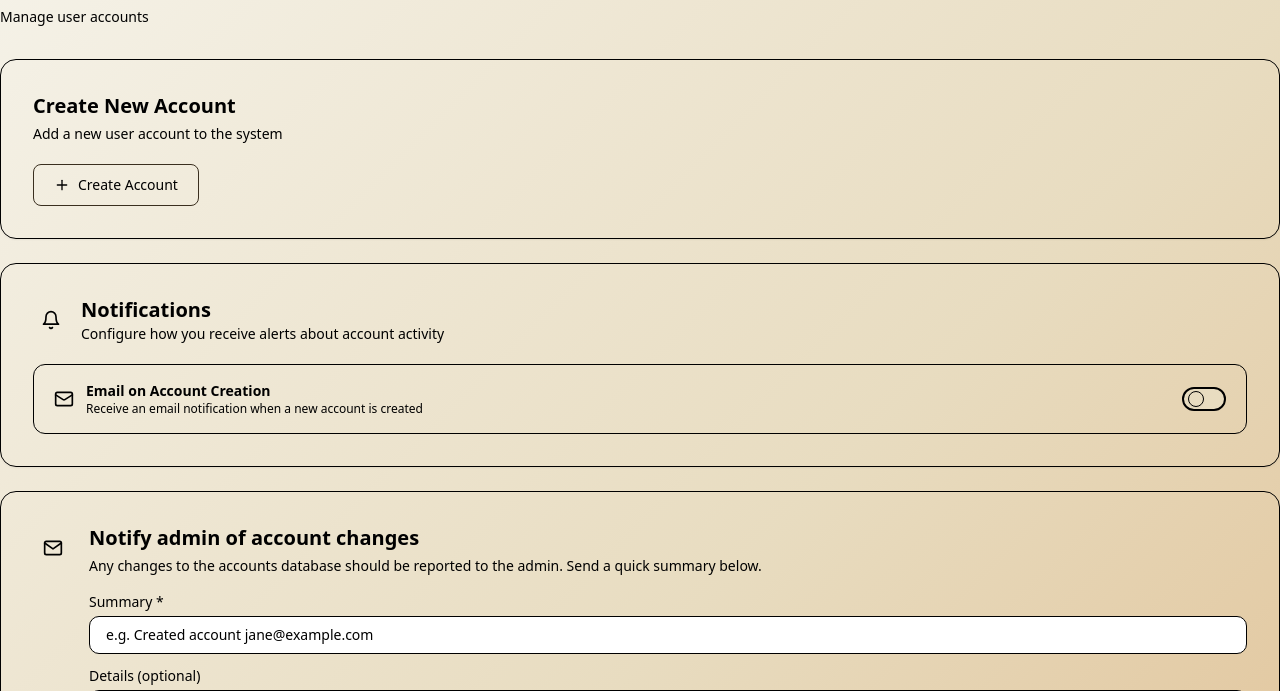
it: Account creation — AccountManagementPage modal › adds the new account to the displayed list after successful creation
Click the button "Create Account" at x=116, y=185, box [33,164,199,206]
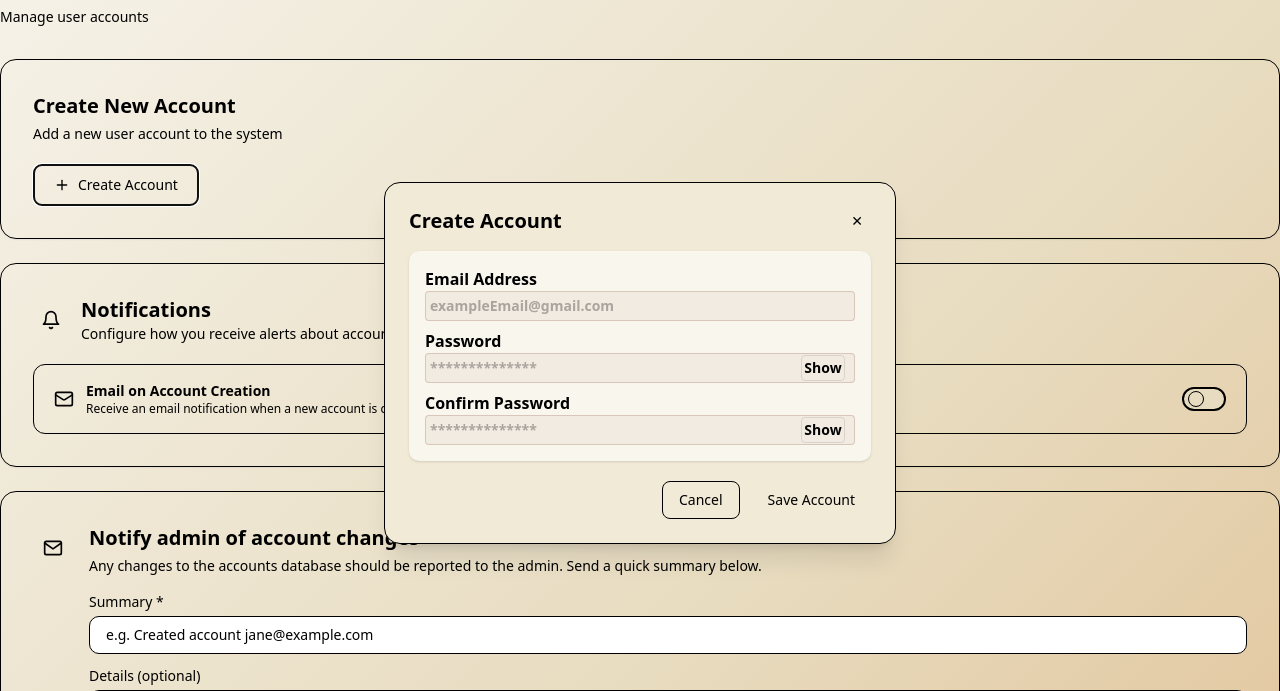
Type "freshuser@example.com" into the field labelled "Email Address" at x=640, y=306, box [425,291,855,321]
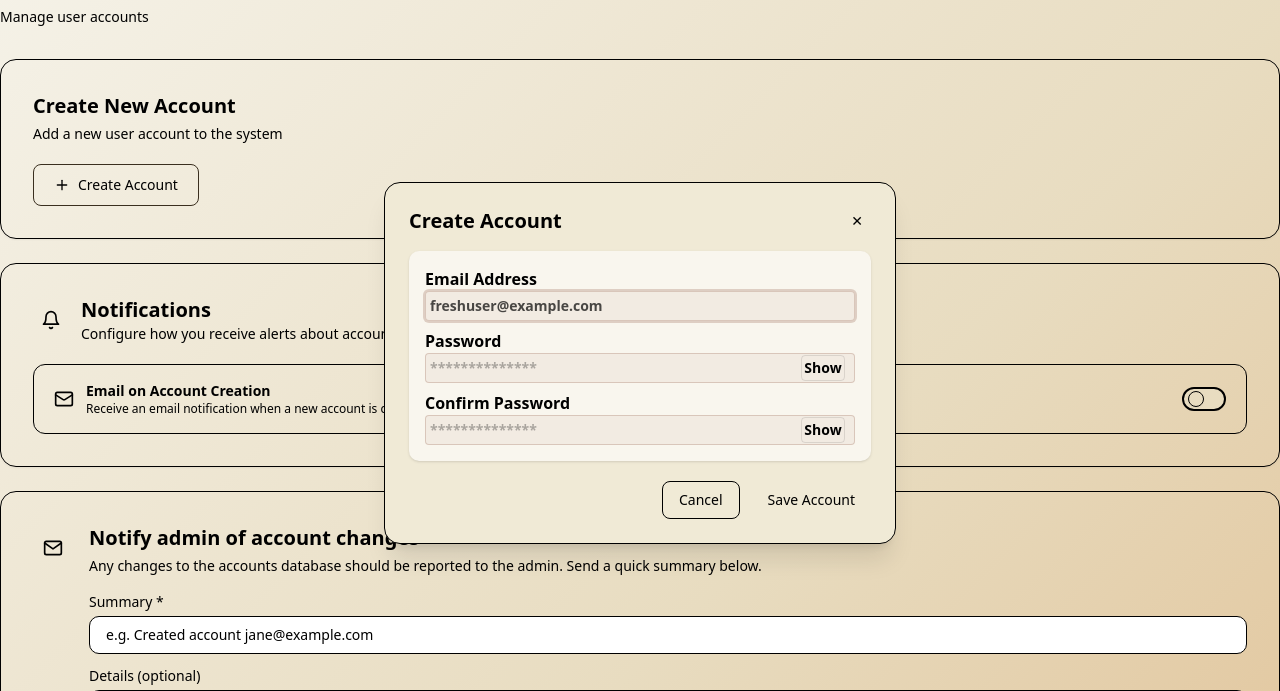
Type "password123" into the password field labelled "Password" at x=640, y=368, box [425,353,855,383]
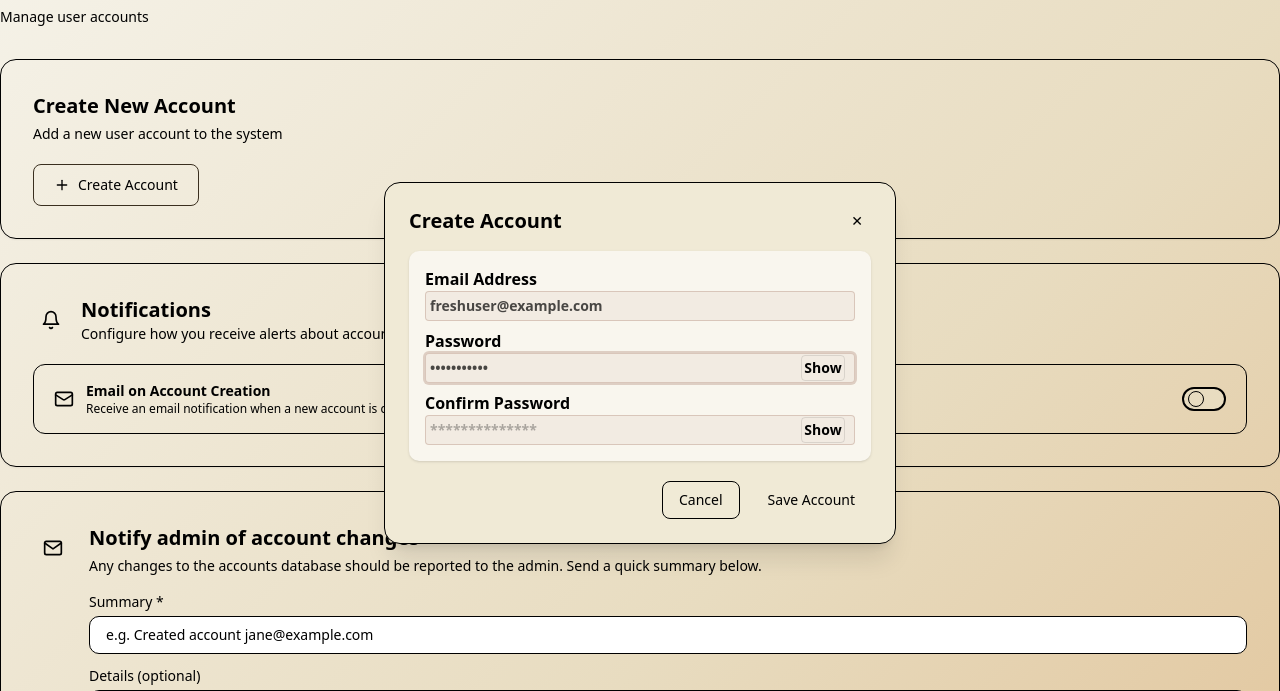
Type "password123" into the password field labelled "Confirm Password" at x=640, y=430, box [425,415,855,445]
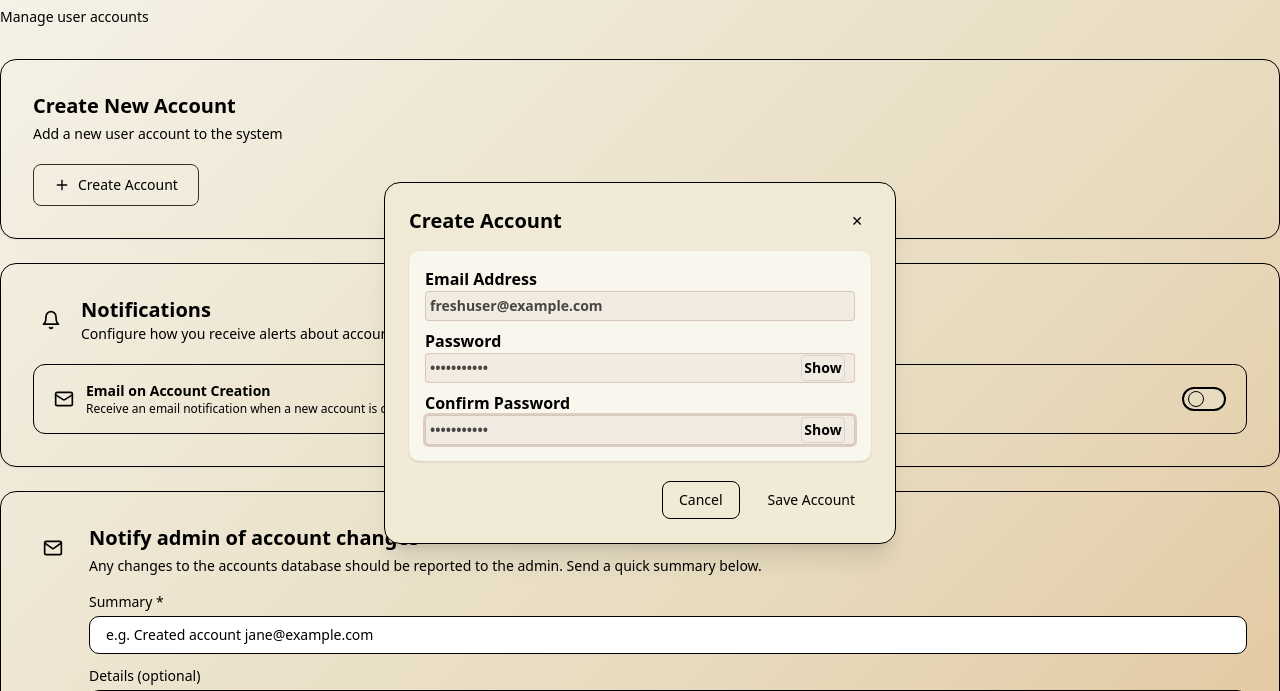
Click the button "Save Account" at x=811, y=500, box [752,481,871,519]
(page scrolled)
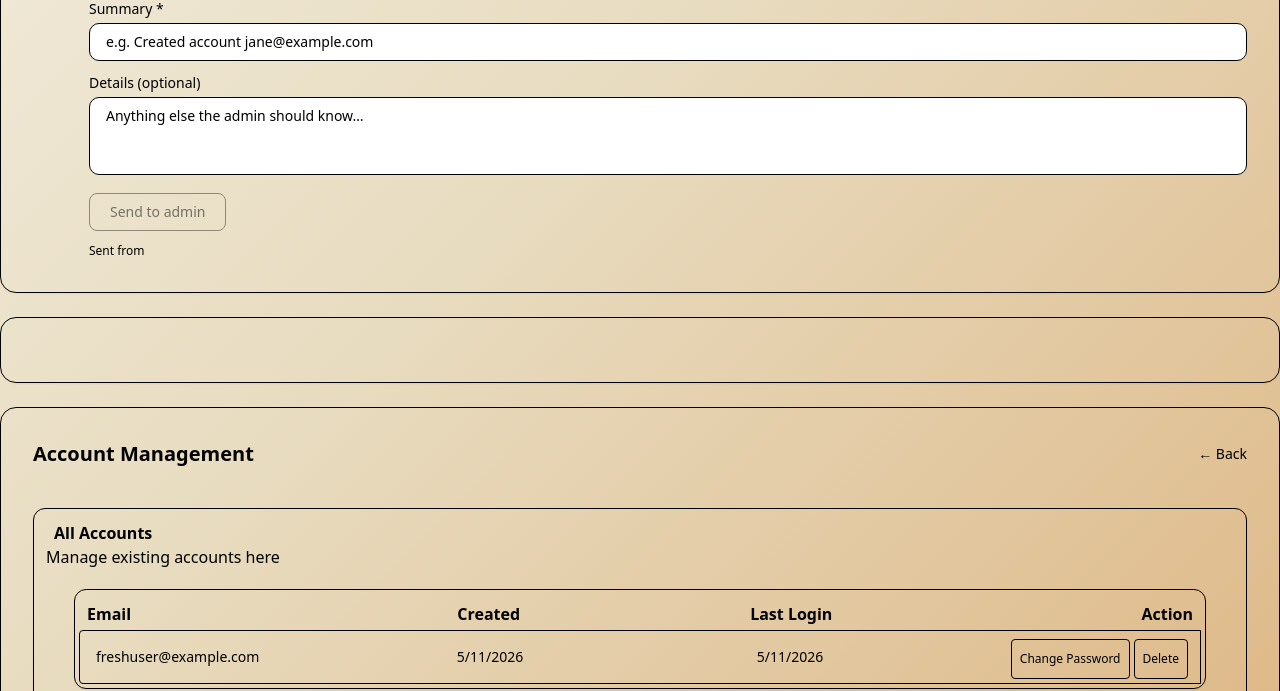
Result: the text "freshuser@example.com" is shown at [96,647,259,666]
